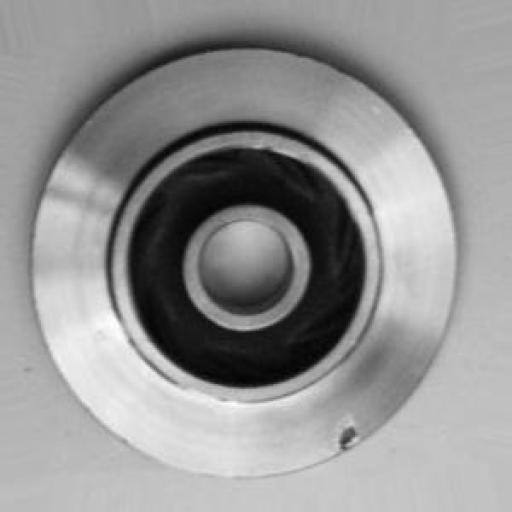defect: (331, 413, 372, 469)
